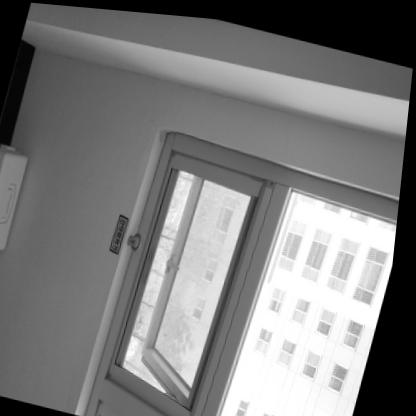DDL: (0, 145, 34, 252)
